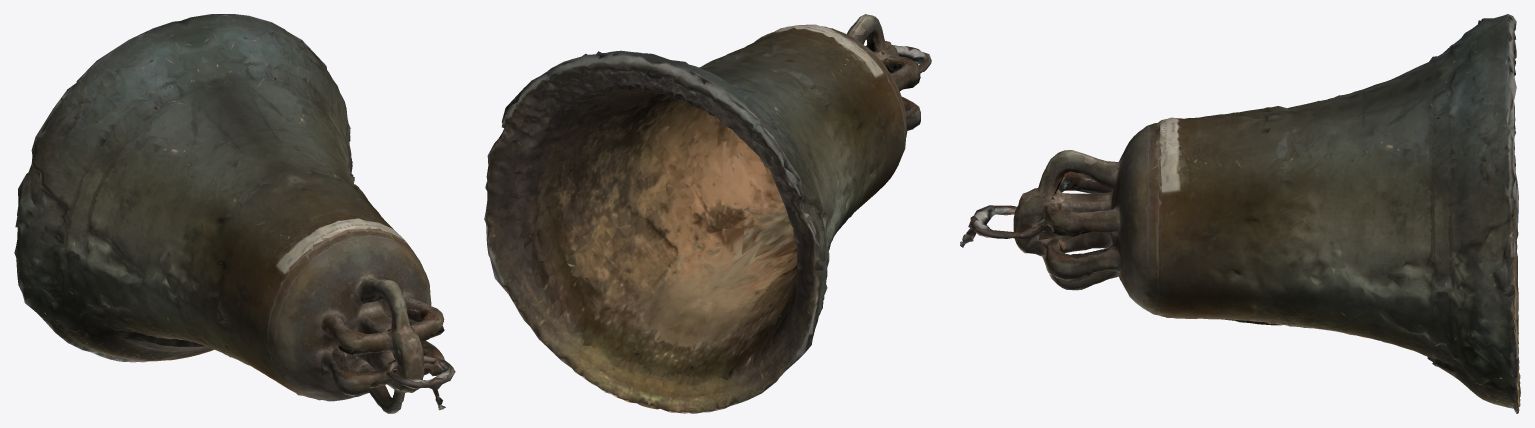
The model's file is digiba_cracked_bell.glb.
3 renders of one model, left to right at view 1: azimuth 30°, elevation 25°; view 2: azimuth 150°, elevation 25°; view 3: azimuth 270°, elevation 25°, orthographic. The views are drawn at different scales.
Visible parts, largest first — view 1: default_Item_8_Model_6_u1_v1_0; view 2: default_Item_8_Model_6_u1_v1_0; view 3: default_Item_8_Model_6_u1_v1_0.
Boxes of the visible parts, x1=… form: default_Item_8_Model_6_u1_v1_0: x1=14, y1=14, x2=455, y2=413; default_Item_8_Model_6_u1_v1_0: x1=484, y1=14, x2=931, y2=413; default_Item_8_Model_6_u1_v1_0: x1=960, y1=14, x2=1520, y2=413.
Bounding box in the file's own units: 0.6241 × 0.6078 × 0.8637.
Materials: 1 (1 with a texture image).
